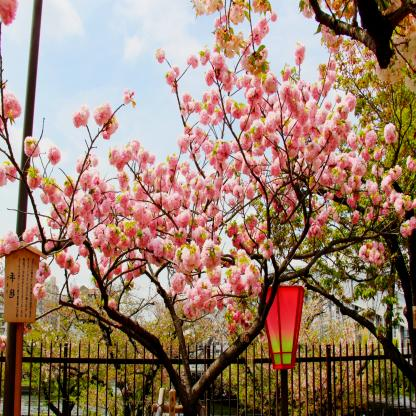YaeSakura: (0, 0, 382, 415), (306, 0, 416, 416), (67, 286, 212, 416), (221, 289, 308, 416), (300, 284, 383, 416), (26, 288, 84, 416)
